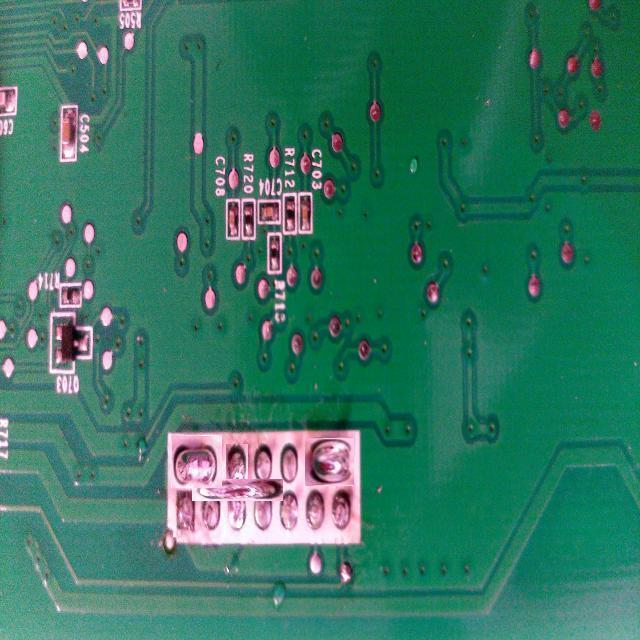Short_circuit: (209, 462, 265, 519), (171, 435, 222, 488), (305, 437, 354, 486)
